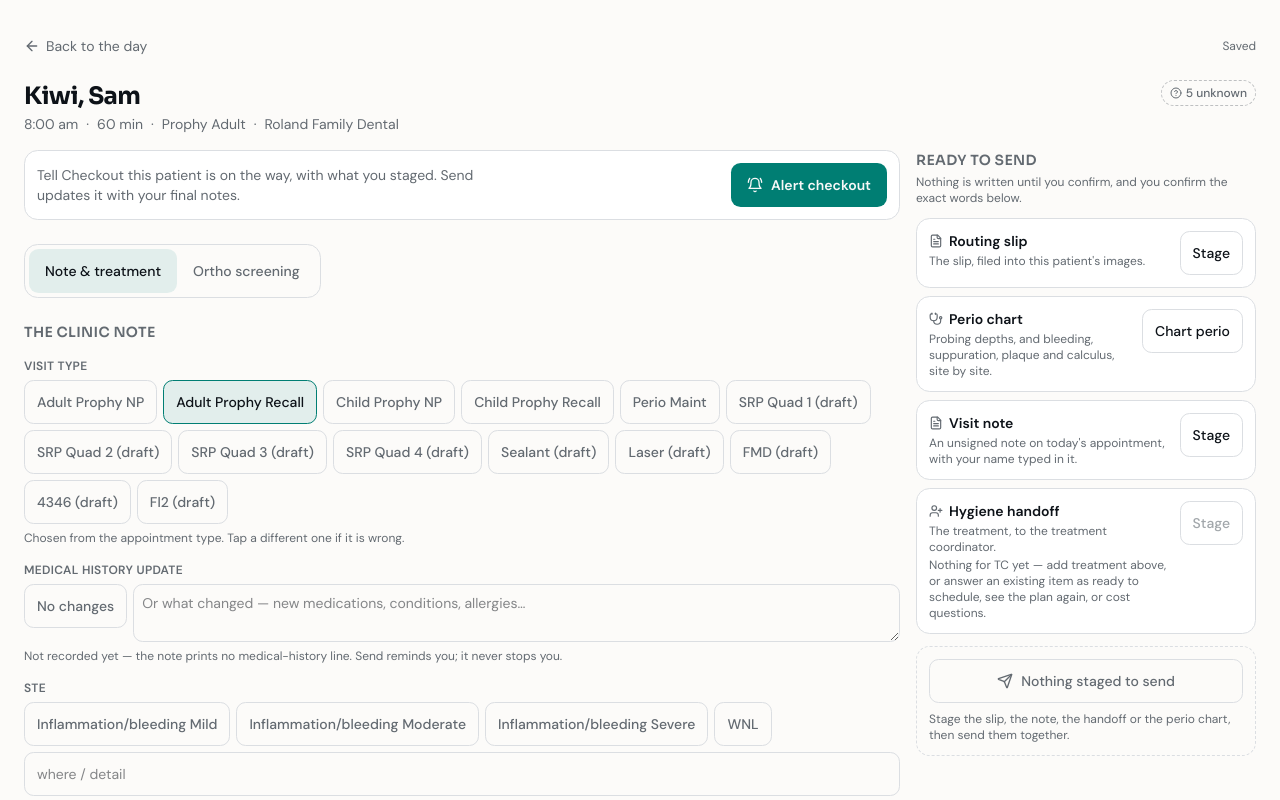
Test: Alert checkout on the visit page › stores a pending autosave BEFORE alerting
The width and height of the screenshot is (1280, 800).
Click the tab with test id "hyg-visit-tab-ortho": {"x": 246, "y": 271} [177,249,316,293]
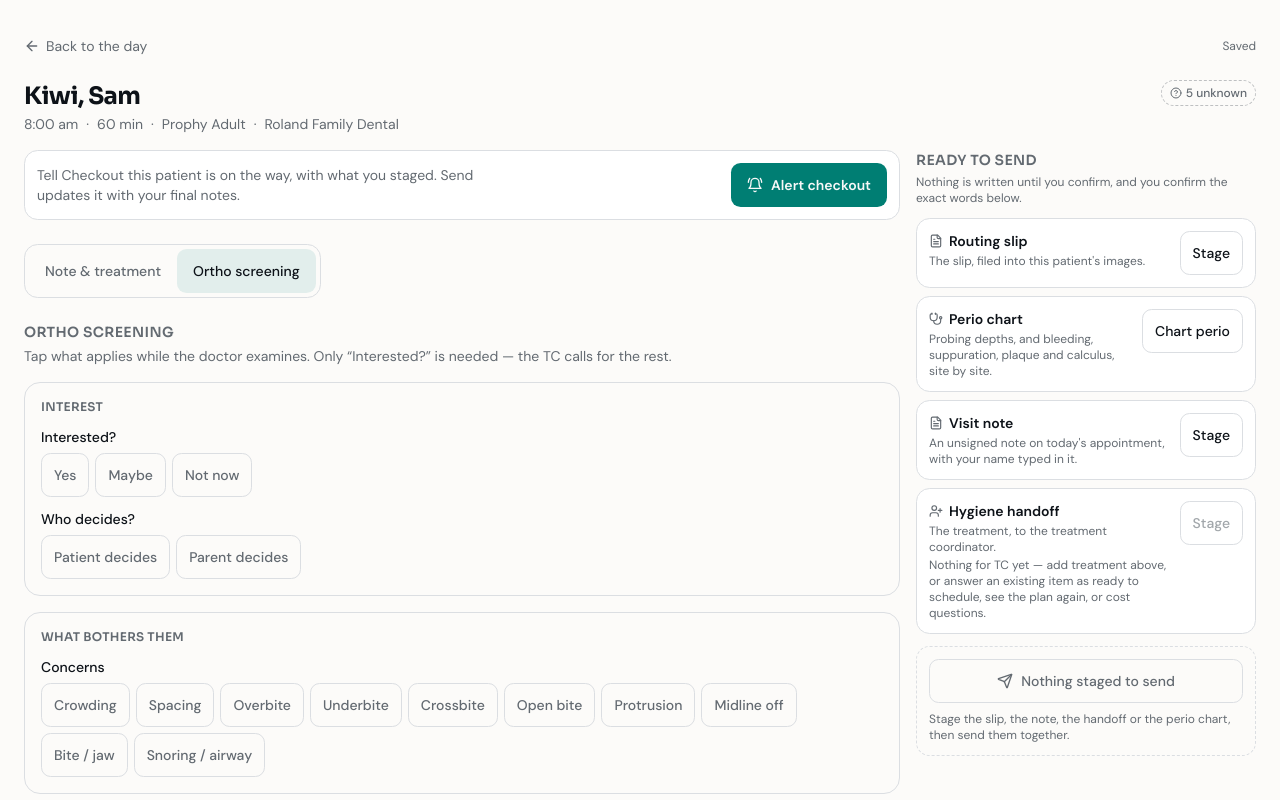
Click the button with test id "ortho-interest-yes": {"x": 65, "y": 475} [41,453,89,497]
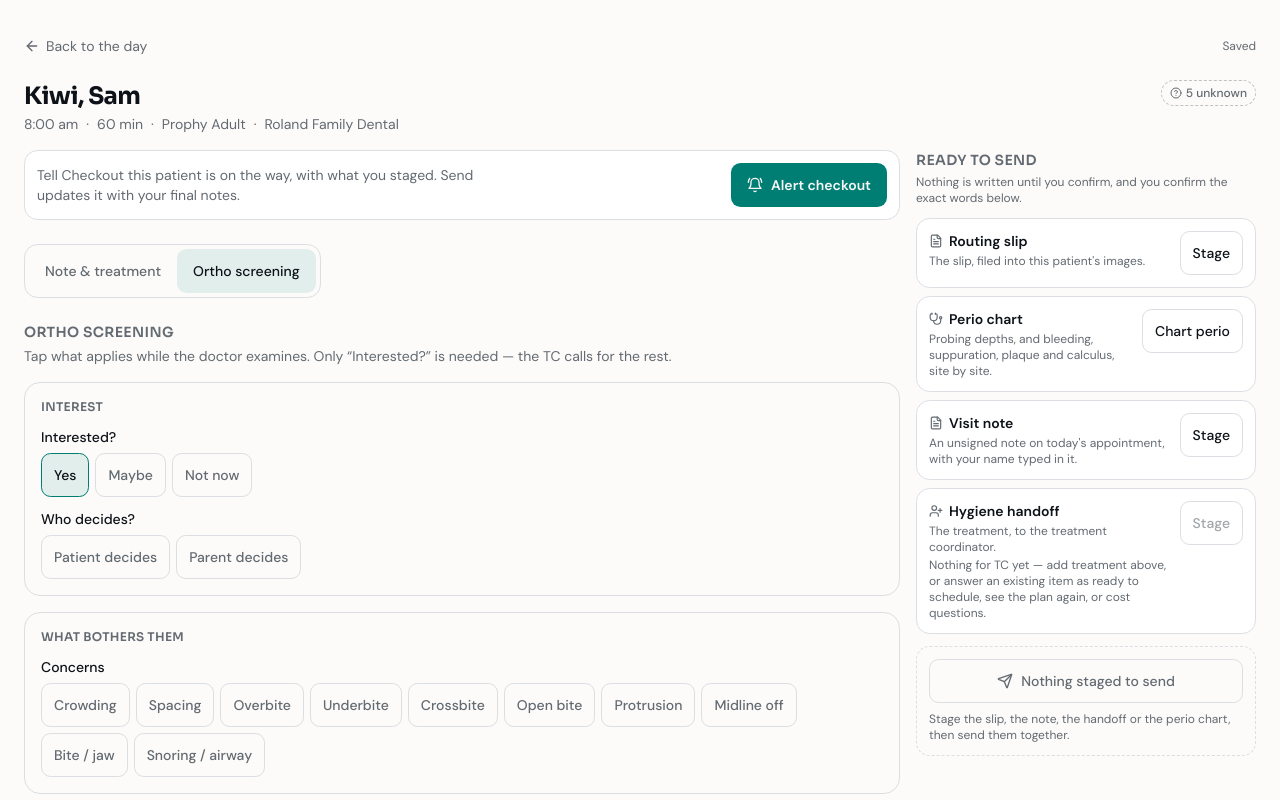
Click the button with test id "checkout-alert-button": {"x": 809, "y": 185} [731,163,887,207]
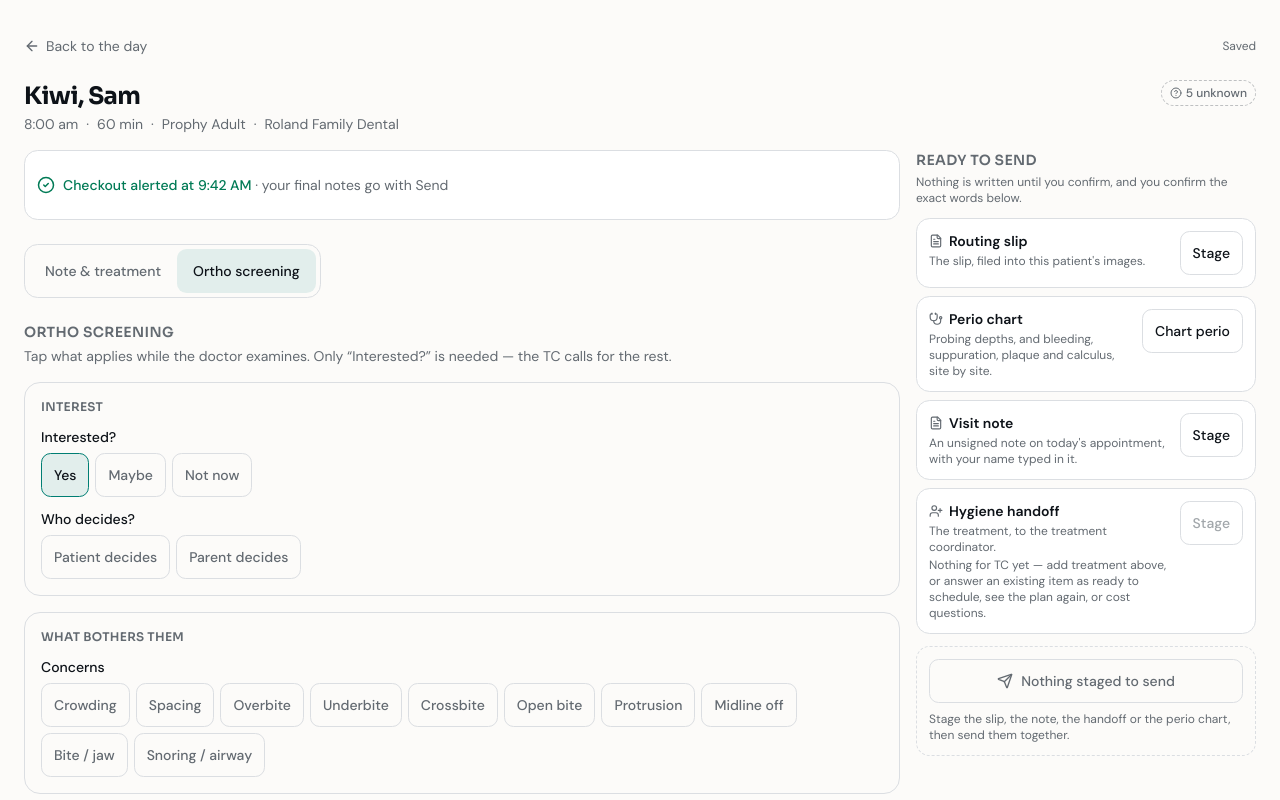
Expected: the element with test id "checkout-alerted" is shown, [37,176,448,194]
